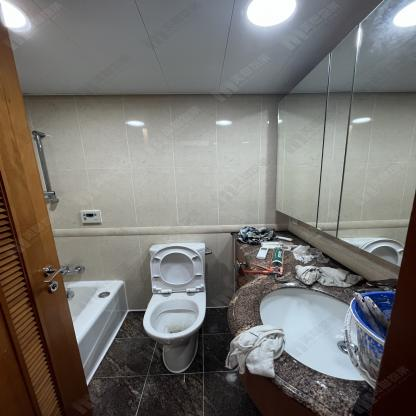Bathtub: (64, 280, 128, 387)
Toilet: (144, 242, 207, 371)
Toilet Sink: (261, 289, 363, 380)
